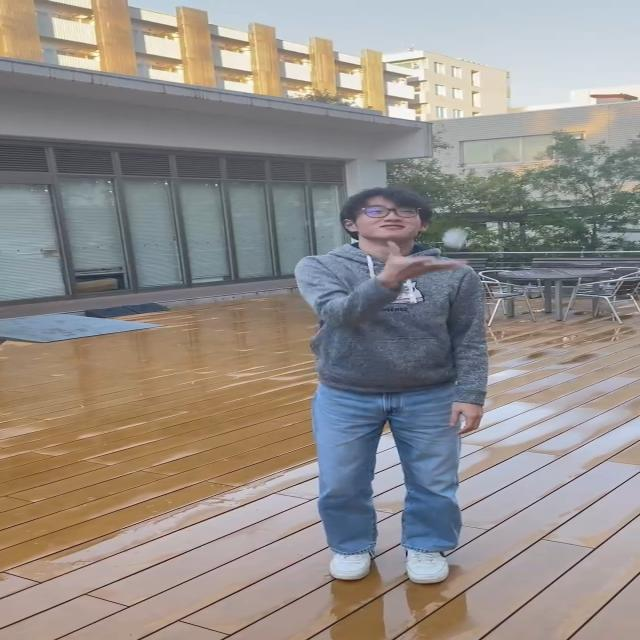paper: (445, 230, 466, 246)
